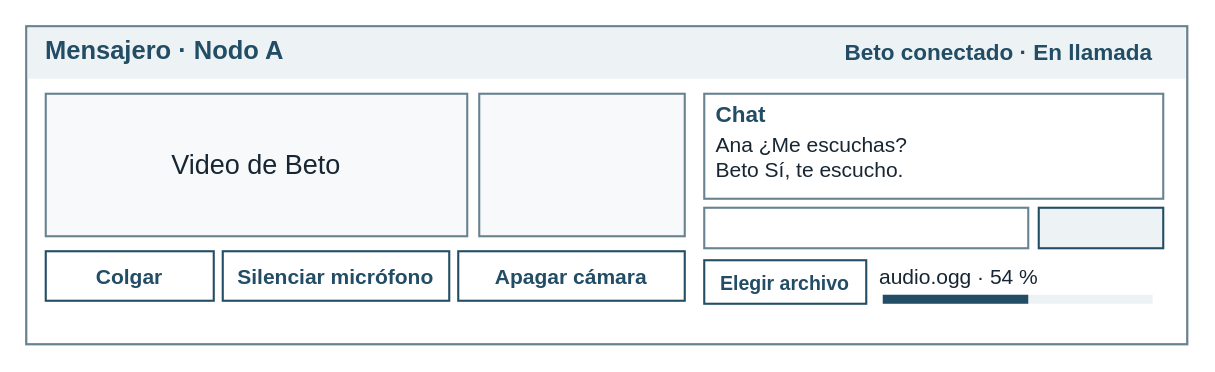
Image size: 1215x372. Some labels were removed from this diagram. Each missing label, with the centre of its shape:
"Enviar" goes at point 1100,227.
"Escribe un mensaje…" goes at point 865,227.
"Mi cámara" goes at point 581,164.
